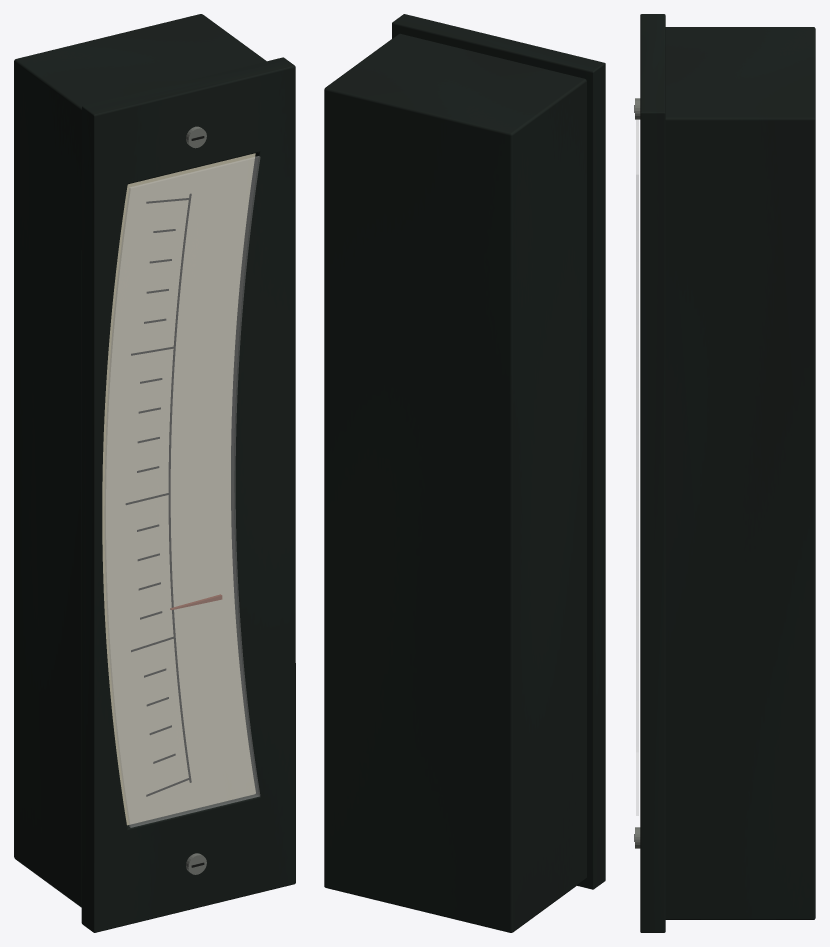
File: linear_gauge_curved_refined.glb
3 renders of one model, left to right at view 1: azimuth 30°, elevation 25°; view 2: azimuth 150°, elevation 25°; view 3: azimuth 270°, elevation 25°, orthographic.
Visible parts, largest first — view 1: Fixed_Front_Frame, Fixed_Protective_Glass, Fixed_Scale_Window, Fixed_Rear_Housing, Fixed_Scale_Rail, Fixed_Scale_Printing; view 2: Fixed_Rear_Housing, Fixed_Front_Frame; view 3: Fixed_Rear_Housing, Fixed_Front_Frame, Fixed_Protective_Glass.
Part boxes in pixels (x1,y1,x2,y2): Fixed_Front_Frame: (81, 57, 295, 932); Fixed_Protective_Glass: (104, 156, 260, 827); Fixed_Scale_Window: (102, 153, 255, 825); Fixed_Rear_Housing: (14, 14, 266, 907); Fixed_Scale_Rail: (168, 193, 191, 782); Fixed_Scale_Printing: (125, 198, 190, 796); Fixed_Rear_Housing: (324, 33, 586, 932); Fixed_Front_Frame: (392, 14, 605, 889); Fixed_Rear_Housing: (665, 27, 815, 919); Fixed_Front_Frame: (640, 14, 665, 932); Fixed_Protective_Glass: (636, 120, 638, 815).
Size of the model in its own units: 0.046 by 0.178 by 0.0357.
Materials: 6 (2 with a texture image).
